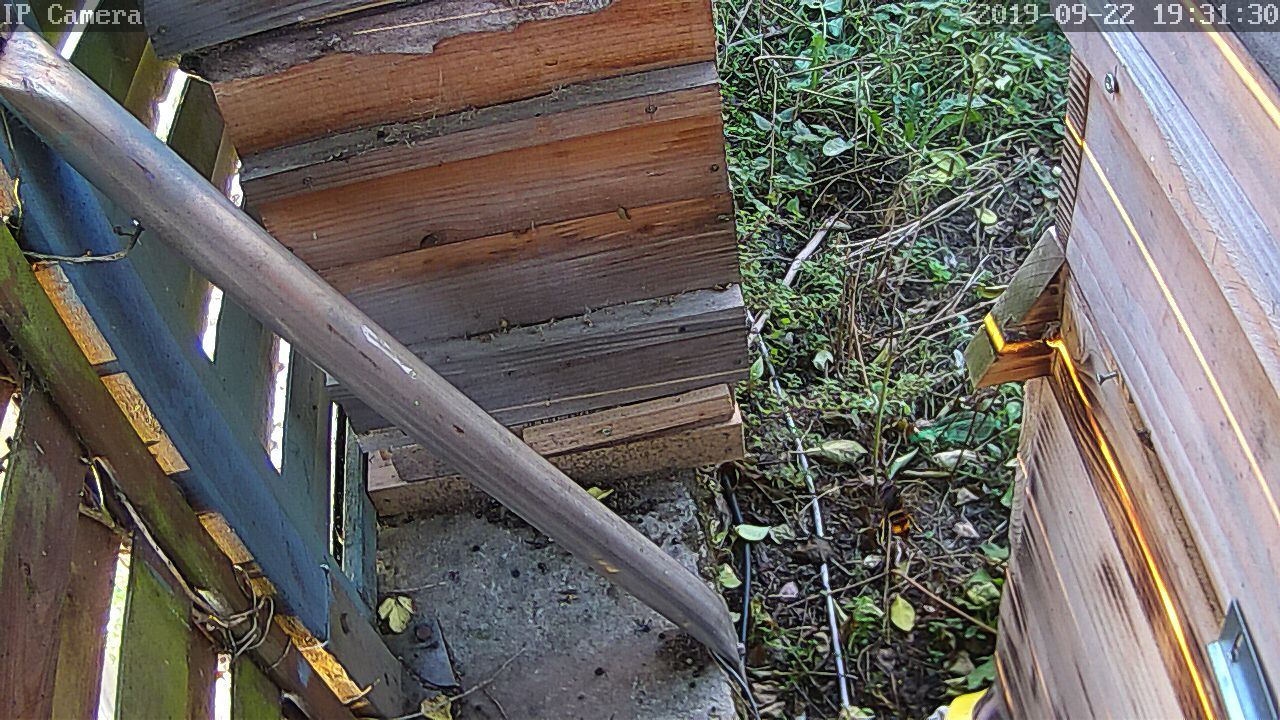hornet: (870, 476, 915, 549)
